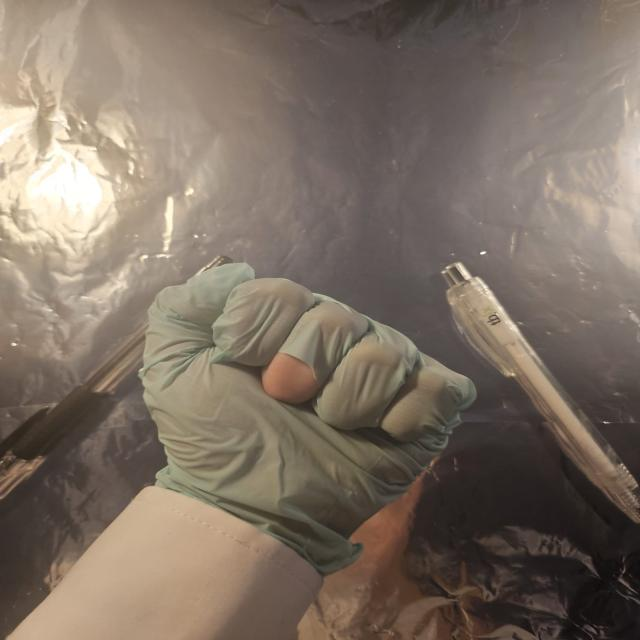gloves_damaged: (141, 262, 481, 575)
